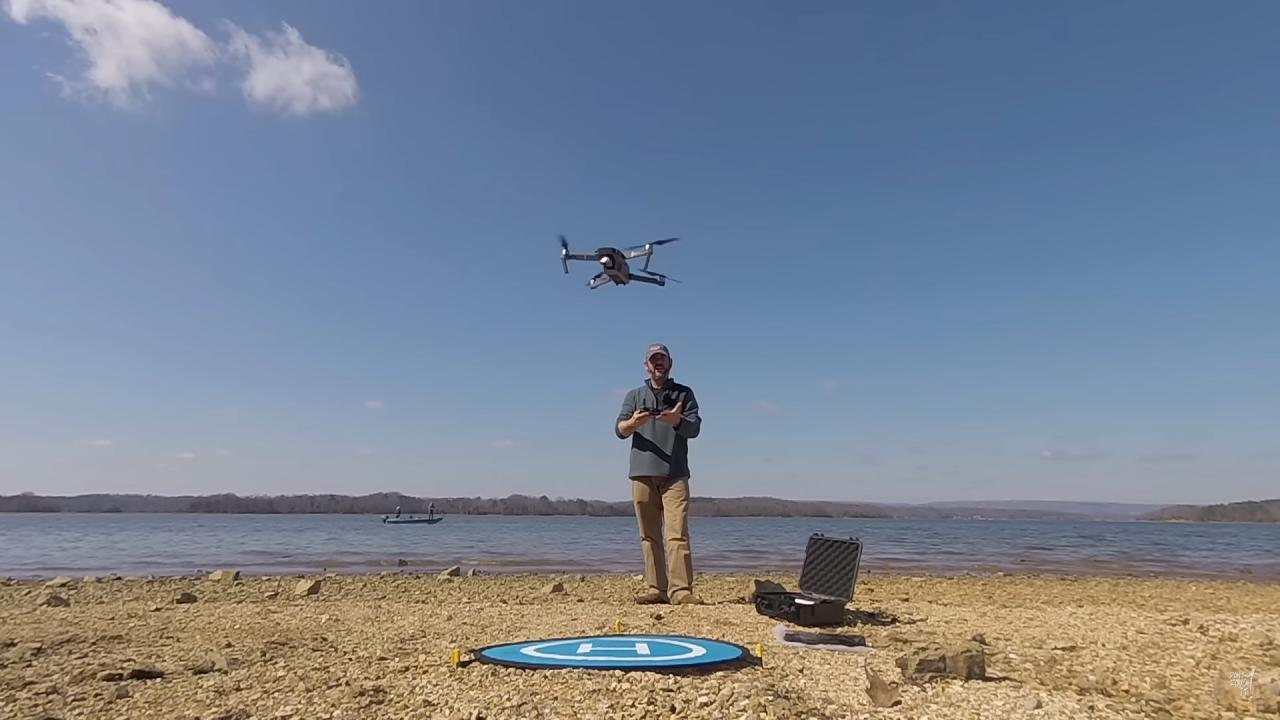Drone: (549, 225, 694, 298)
